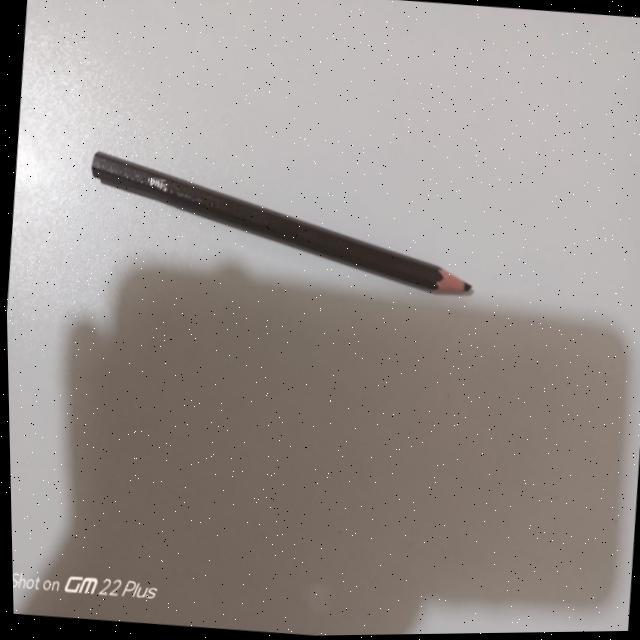pencil: (80, 139, 489, 312)
